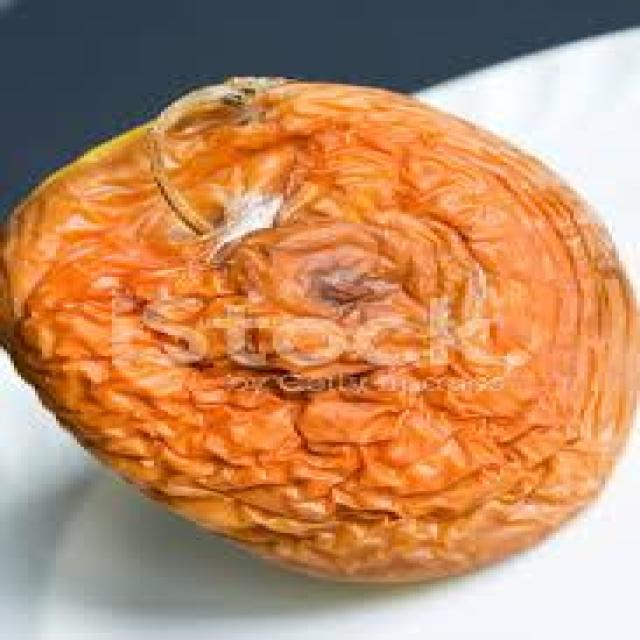organic: (0, 77, 640, 584)
